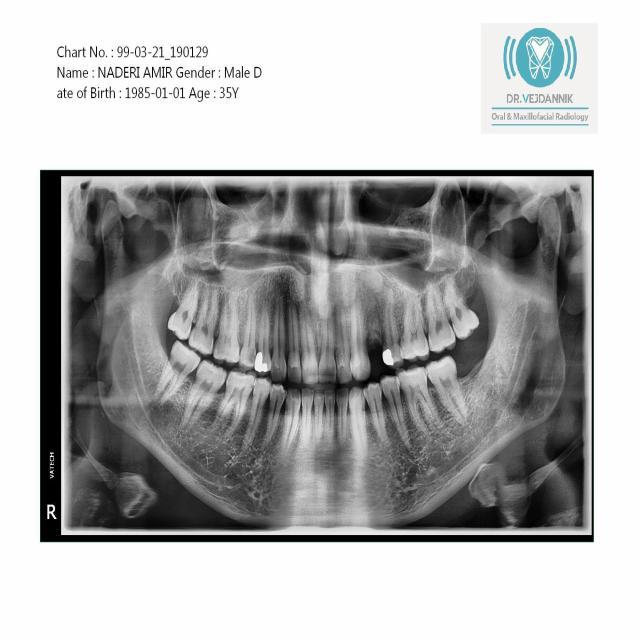72: (370, 316, 382, 344)
NucleOSS Implant: (381, 348, 395, 368)
Sterngold Implant: (254, 353, 266, 372), (247, 345, 256, 367), (248, 381, 256, 391), (254, 379, 259, 392), (421, 370, 427, 379), (227, 375, 232, 385), (426, 370, 433, 377), (208, 367, 214, 375)
